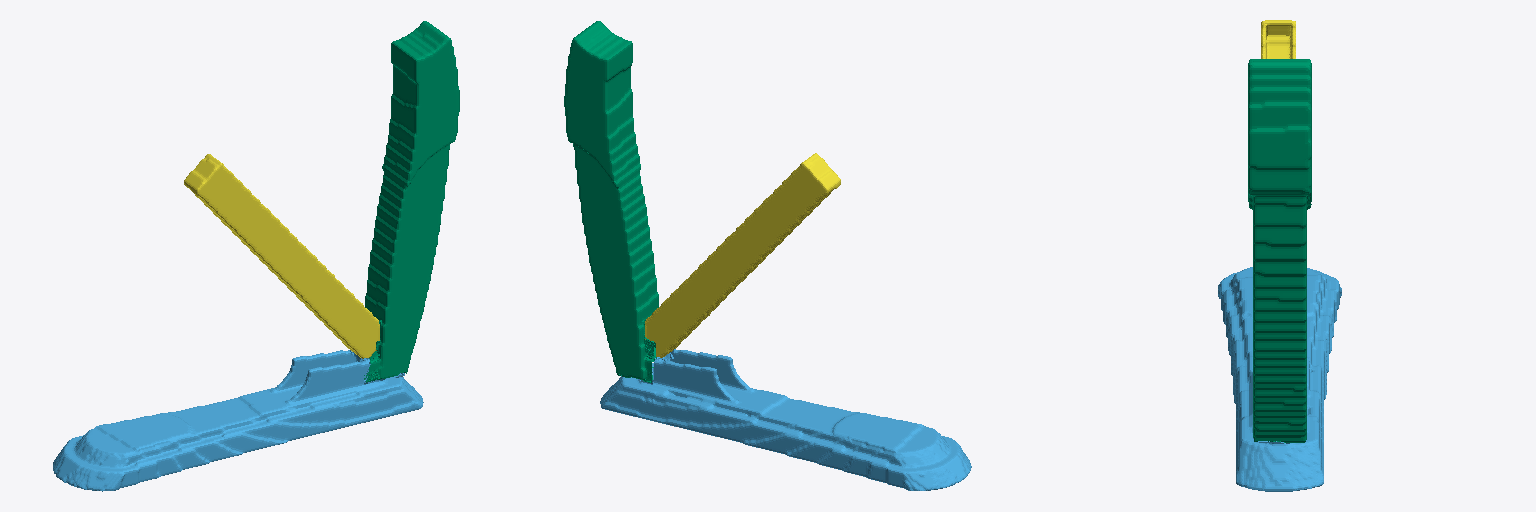
robot.urdf — object:
<?xml version='1.0' encoding='utf-8'?>
<robot name="object">
  <link name="base">
    <inertial>
      <origin xyz="0 0 0" rpy="0 0 0" />
      <mass value="0.0" />
      <inertia ixx="0" ixy="0" ixz="0" iyy="0" iyz="0" izz="0" />
    </inertial>
  </link>
  <link name="link_1">
    <visual>
      <origin xyz="0 0 0" rpy="0 0 0" />
      <geometry>
        <mesh filename="meshes/link_1.stl" />
      </geometry>
    </visual>
    <collision>
      <origin xyz="0 0 0" rpy="0 0 0" />
      <geometry>
        <mesh filename="meshes/link_1.stl" />
      </geometry>
    </collision>
    <inertial>
      <origin xyz="-0.0186262309 -0.00123011332 -0.112536804" rpy="0 0 0" />
      <mass value="100.688284" />
      <inertia ixx="1.37439074" ixy="0.0267417101" ixz="-0.284050031" iyy="29.6451505" iyz="0.00555429979" izz="30.500727" />
    </inertial>
  </link>
  <link name="link_2">
    <visual>
      <origin xyz="-0.822956478 0.00295662438 -0.0607909662" rpy="0 0 0" />
      <geometry>
        <mesh filename="meshes/link_2.stl" />
      </geometry>
    </visual>
    <collision>
      <origin xyz="-0.822956478 0.00295662438 -0.0607909662" rpy="0 0 0" />
      <geometry>
        <mesh filename="meshes/link_2.stl" />
      </geometry>
    </collision>
    <inertial>
      <origin xyz="-0.0814565906 0.00310628715 0.485052651" rpy="0 0 0" />
      <mass value="147.076165" />
      <inertia ixx="12.5133471" ixy="0.00506505177" ixz="-1.94170641" iyy="13.0478075" iyz="0.0285863206" izz="1.29353644" />
    </inertial>
  </link>
  <link name="link_3">
    <visual>
      <origin xyz="-0.866255318 0.00149956027 -0.135931086" rpy="0 0 0" />
      <geometry>
        <mesh filename="meshes/link_3.stl" />
      </geometry>
    </visual>
    <collision>
      <origin xyz="-0.866255318 0.00149956027 -0.135931086" rpy="0 0 0" />
      <geometry>
        <mesh filename="meshes/link_3.stl" />
      </geometry>
    </collision>
    <inertial>
      <origin xyz="-0.626222478 -0.00385057214 0.590459537" rpy="0 0 0" />
      <mass value="15.9561847" />
      <inertia ixx="1.82722711" ixy="0.00249970818" ixz="1.43069224" iyy="3.02203939" iyz="-0.00309001133" izz="1.28214836" />
    </inertial>
  </link>
  <joint name="joint_1_2" type="revolute">
    <parent link="link_1" />
    <child link="link_2" />
    <origin xyz="0.822956478 -0.00295662438 0.0607909662" rpy="0 0 0" />
    <axis xyz="0.00172077199 -0.999995784 -0.0023390697" />
    <limit lower="-1.57" upper="1.57" effort="10.0" velocity="1.0" />
  </joint>
  <joint name="joint_2_3" type="revolute">
    <parent link="link_2" />
    <child link="link_3" />
    <origin xyz="0.0432988403 0.00145706411 0.0751401203" rpy="0 0 0" />
    <axis xyz="0.0277274471 -0.999614501 0.00142756351" />
    <limit lower="-1.57" upper="1.57" effort="10.0" velocity="1.0" />
  </joint>
  <joint name="base_to_1" type="fixed">
    <parent link="base" />
    <child link="link_1" />
    <origin xyz="0 0 0" rpy="0 0 0" />
  </joint>
</robot>

--- Facts derived from the render (not from the file) ---
The picture shows the robot from 3 angles, left to right: view 1: azimuth 30°, elevation 25°; view 2: azimuth 150°, elevation 25°; view 3: azimuth 270°, elevation 25°; orthographic projection.
Model object with 4 links and 3 joints (2 revolute, 1 fixed), rooted at base, posed all joints at 0.
Links seen in each view (by area): view 1: link_1, link_2, link_3; view 2: link_1, link_2, link_3; view 3: link_2, link_1, link_3.
Link boxes in pixels (left/top/right/bottom): link_1: left=53, top=350, right=423, bottom=491; link_2: left=364, top=21, right=459, bottom=382; link_3: left=184, top=154, right=379, bottom=358; link_1: left=600, top=349, right=971, bottom=490; link_2: left=564, top=21, right=658, bottom=382; link_3: left=645, top=153, right=840, bottom=357; link_2: left=1248, top=59, right=1311, bottom=442; link_1: left=1218, top=267, right=1341, bottom=491; link_3: left=1261, top=20, right=1295, bottom=58.
Size in the robot's own frame: 2.18 by 0.4902 by 1.93 metres.
Meshes: 3 distinct files referenced, 3 mesh visuals loaded (3 binary STL).
